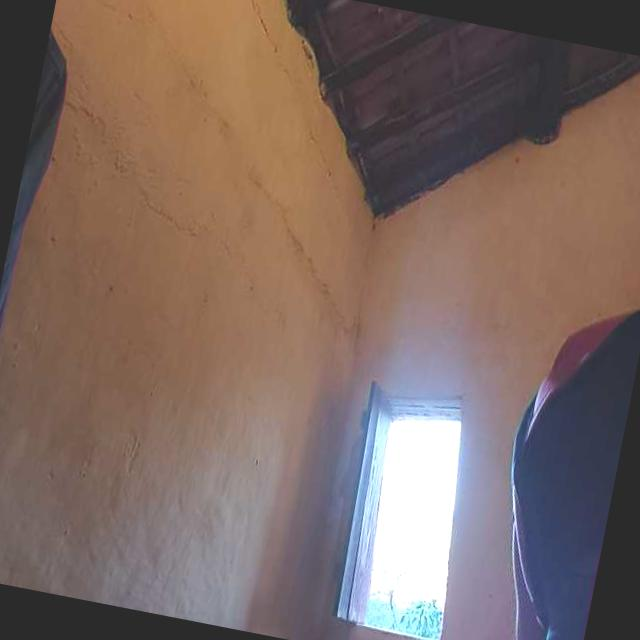colete: (499, 296, 640, 543)
pessoa: (460, 281, 640, 640)
